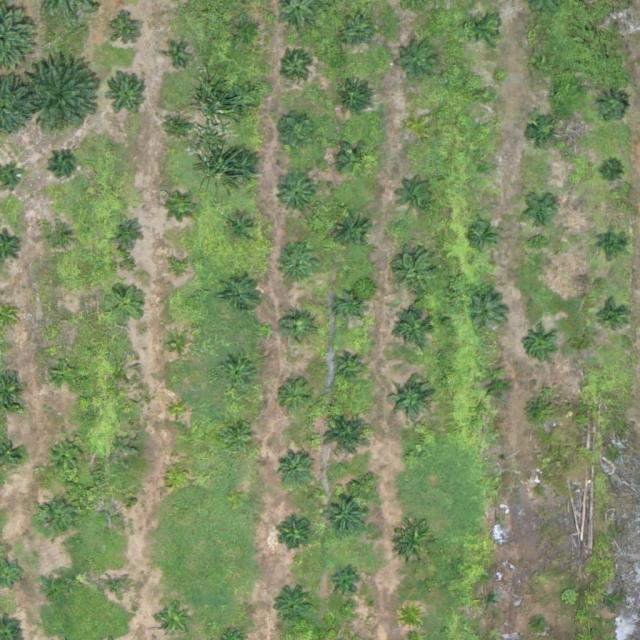Healthy: (27, 59, 105, 137), (320, 409, 375, 464), (231, 86, 262, 118), (339, 295, 362, 319)
Small: (272, 109, 319, 157), (388, 378, 435, 425), (322, 491, 369, 538), (104, 69, 151, 116), (277, 247, 317, 287), (220, 355, 260, 395), (223, 149, 263, 189), (398, 42, 438, 82), (274, 377, 314, 416), (272, 587, 311, 627), (275, 514, 314, 554), (468, 293, 508, 332), (333, 212, 372, 252), (396, 310, 435, 350), (395, 523, 435, 562), (47, 435, 86, 475), (223, 274, 262, 314), (335, 77, 375, 116), (107, 285, 146, 325), (277, 175, 316, 214), (276, 450, 315, 489), (397, 254, 436, 293), (401, 178, 440, 217), (36, 496, 75, 535), (155, 601, 194, 640), (332, 352, 363, 384), (596, 301, 627, 333), (226, 214, 257, 246), (113, 17, 144, 49), (466, 11, 497, 43), (596, 89, 627, 121), (482, 372, 513, 404), (521, 394, 552, 426), (101, 573, 132, 605), (46, 572, 77, 604), (282, 314, 313, 345), (327, 570, 358, 601), (597, 228, 628, 259), (527, 194, 558, 225), (340, 145, 371, 176), (469, 221, 500, 252), (524, 330, 555, 361), (223, 419, 254, 450), (282, 53, 313, 84), (341, 16, 372, 47), (528, 119, 559, 150), (114, 218, 145, 249), (51, 358, 82, 389), (172, 195, 196, 219), (52, 150, 76, 174), (533, 54, 557, 78), (399, 605, 423, 629), (235, 19, 259, 43), (168, 259, 192, 283), (167, 333, 191, 357), (168, 400, 192, 424), (165, 462, 189, 486), (479, 589, 502, 613), (48, 228, 71, 252), (56, 309, 79, 333), (108, 495, 131, 519), (167, 47, 190, 70), (169, 116, 192, 139), (477, 159, 493, 175), (477, 87, 493, 102), (412, 120, 427, 136), (405, 450, 421, 465), (610, 12, 625, 27), (603, 164, 618, 179), (532, 614, 547, 629), (530, 483, 545, 498)
